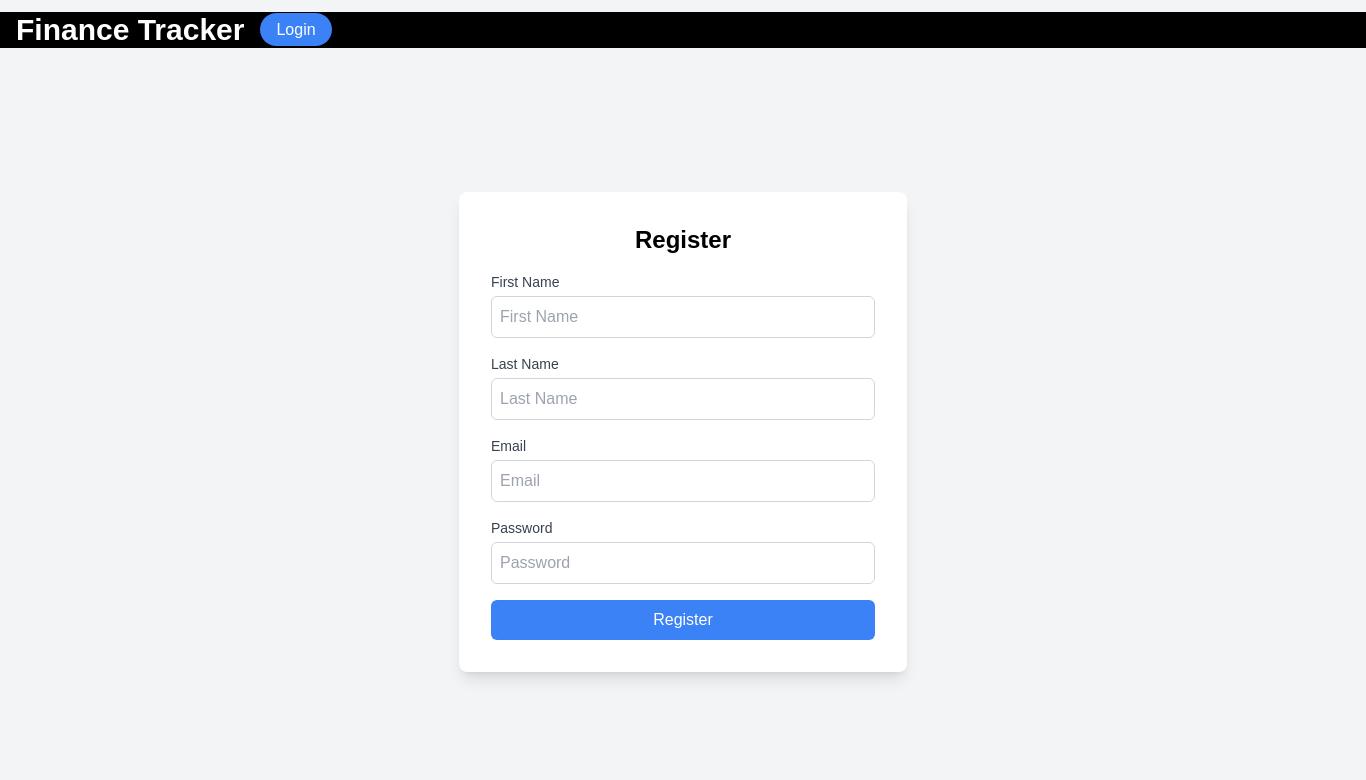
Test: Registration Tests › should display an error if the user already exists
Type "Existing" into the field named "firstName". click: [683, 317]
box: [491,296,875,338]
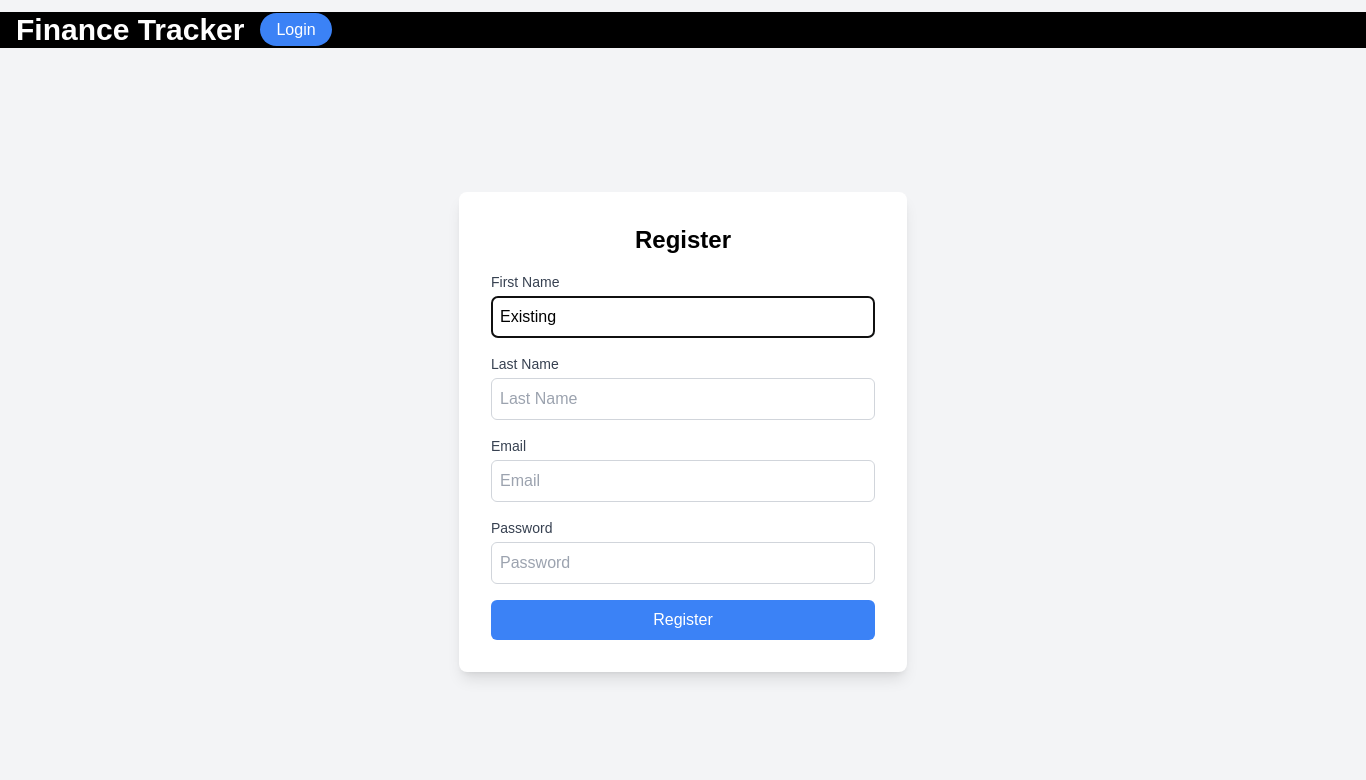
Type "User" into the field named "lastName". click: [683, 399]
box: [491,378,875,420]
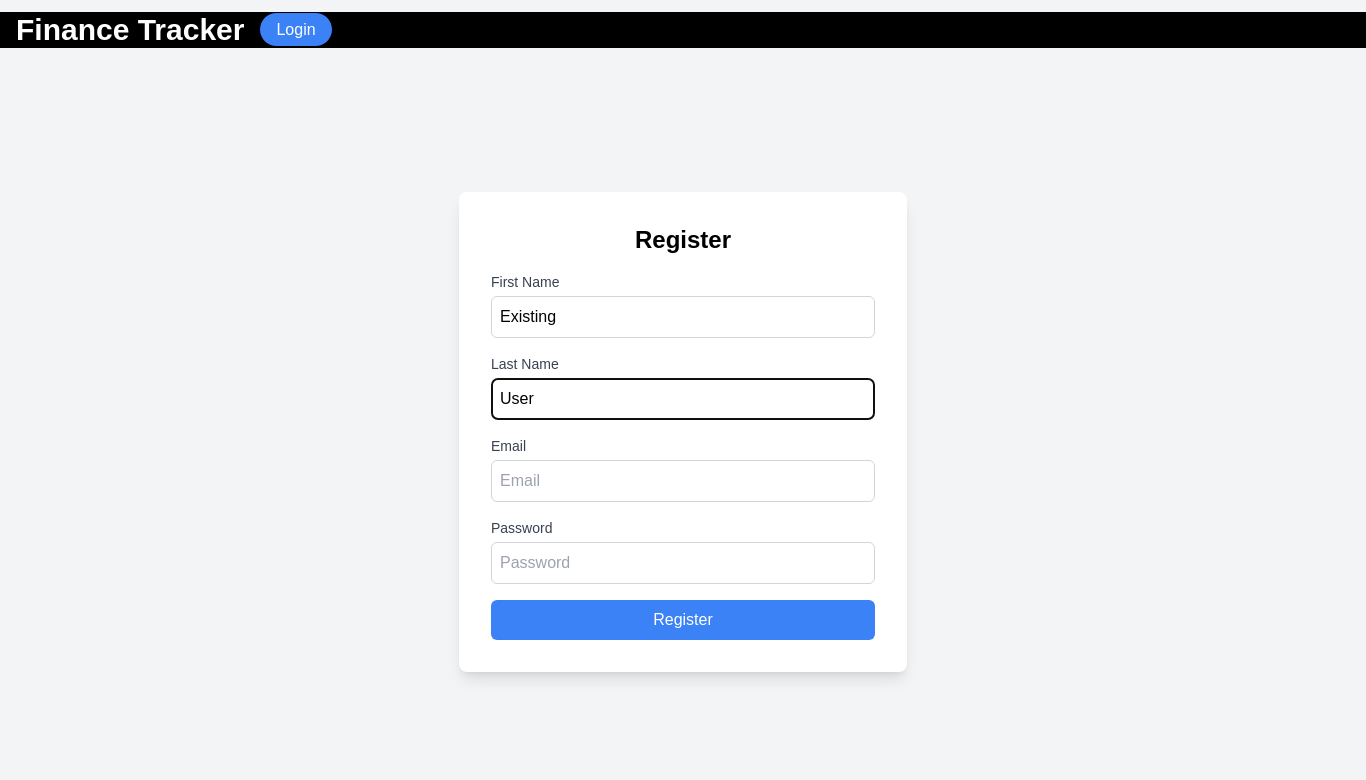
Type "existinguser@example.com" into the field named "email". click: [683, 481]
box: [491,460,875,502]
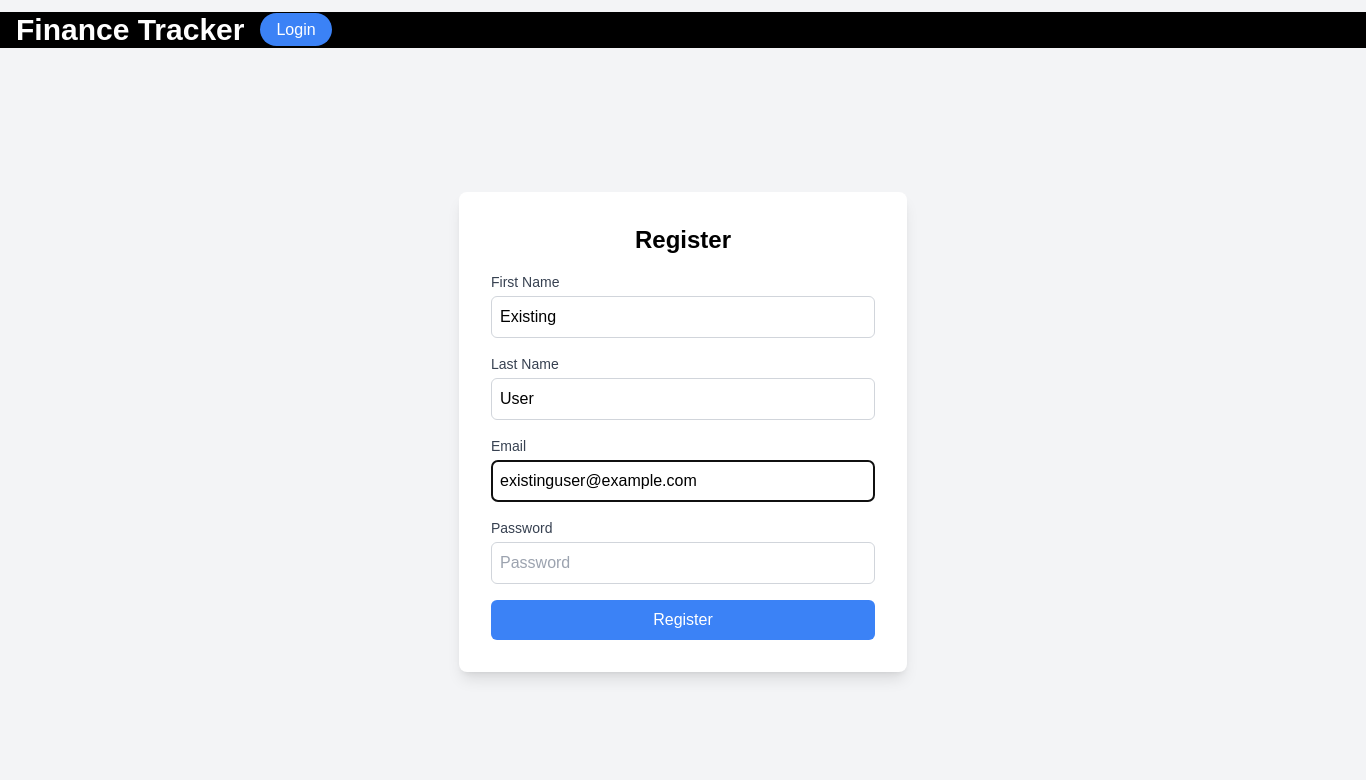
Type "SecurePassword123" into the password field named "password". click: [683, 563]
box: [491,542,875,584]
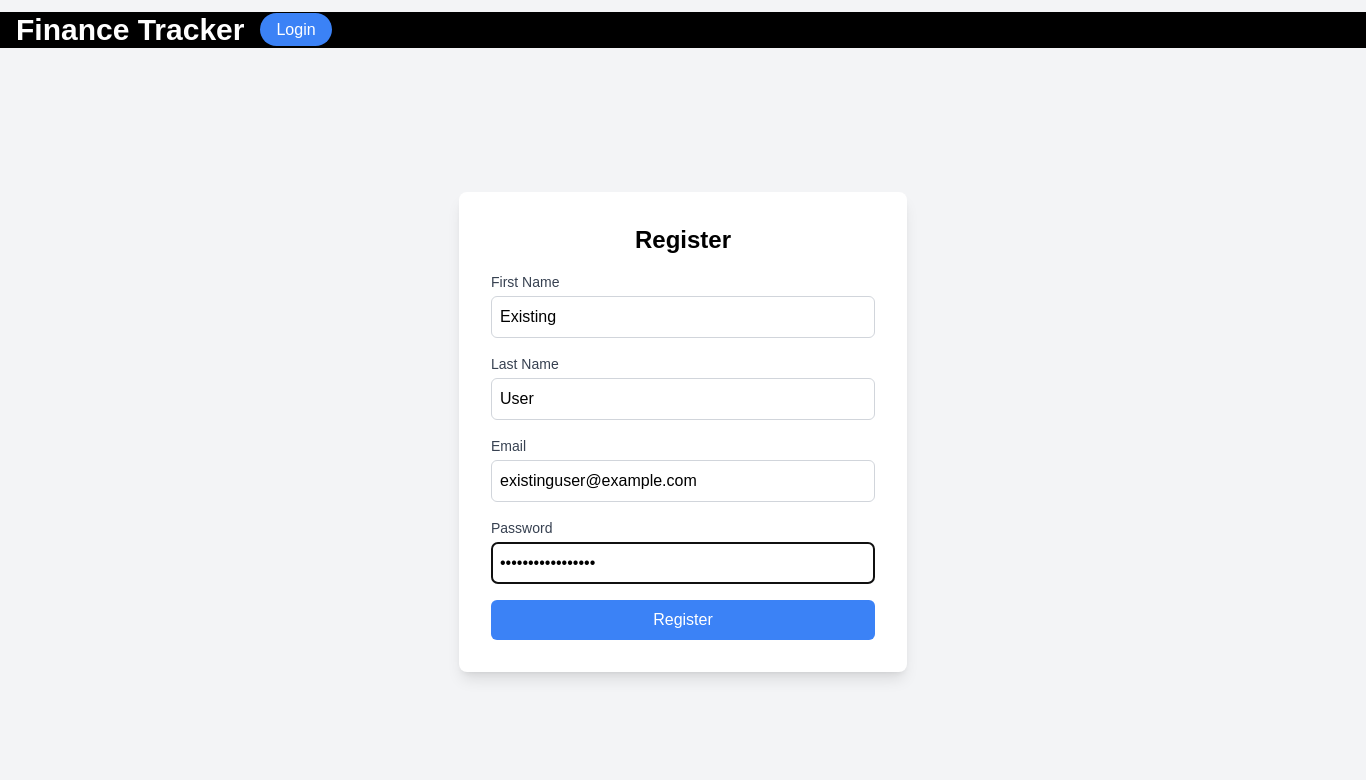
Click the submit button. click: [683, 620]
box: [491,600,875,640]
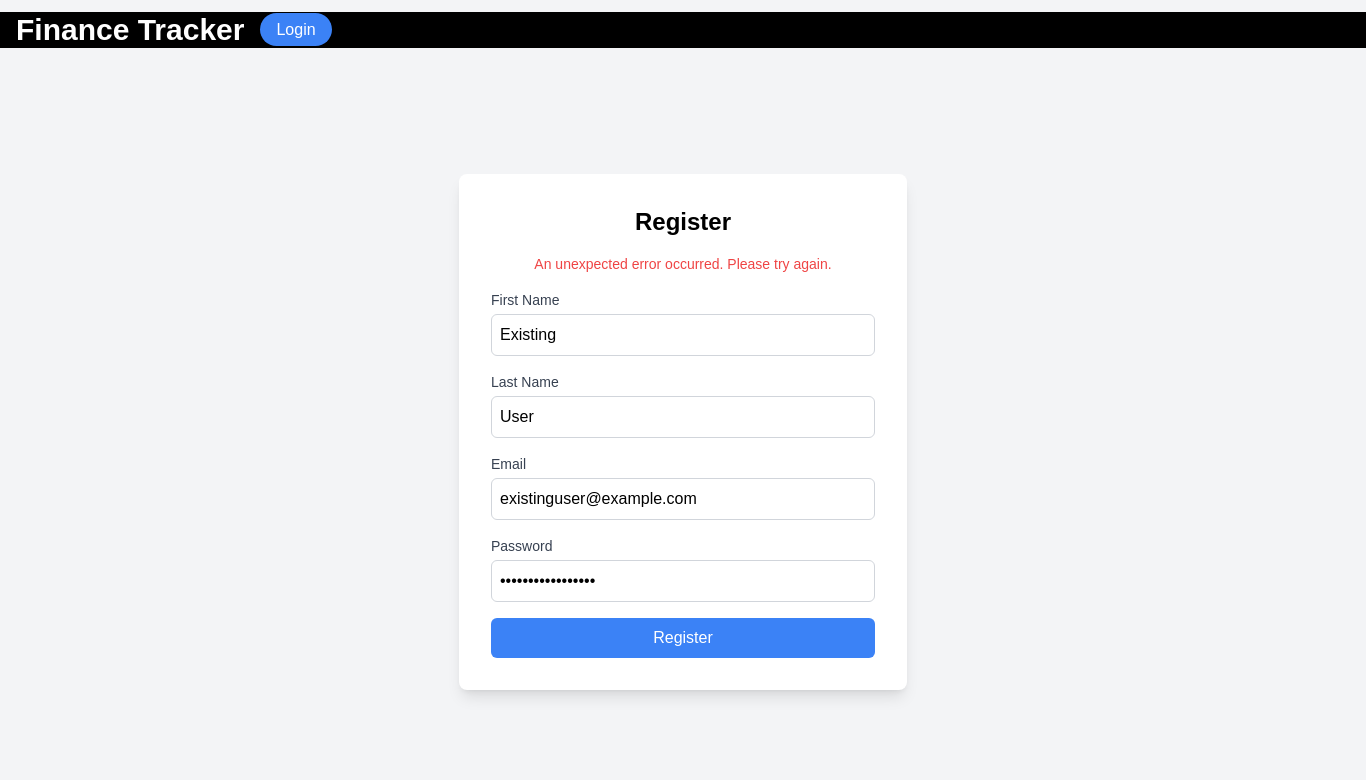
Expected: the text "An unexpected error occurred. Please try again." is shown, [534,256,832,272]
